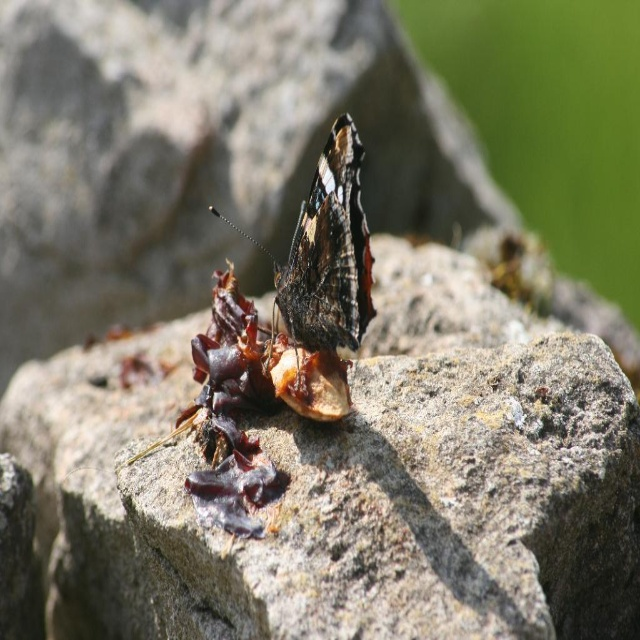Butterfly: (236, 106, 380, 385)
